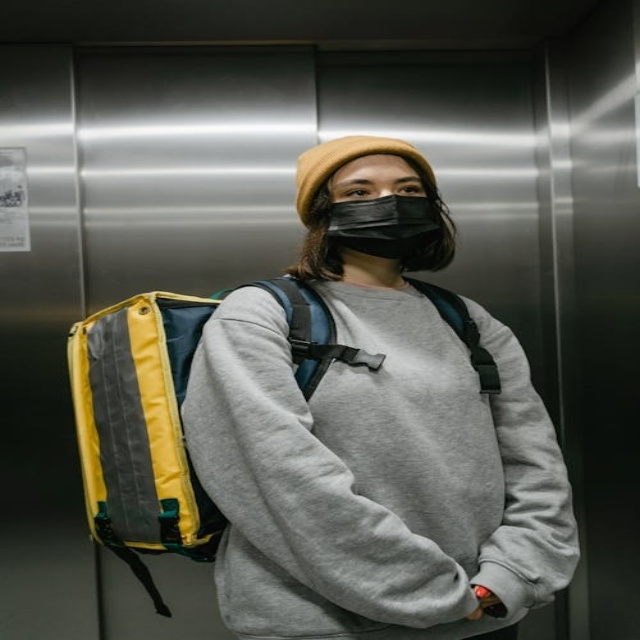Mascara: (324, 194, 444, 260)
Sin_gafas: (335, 174, 421, 200)
